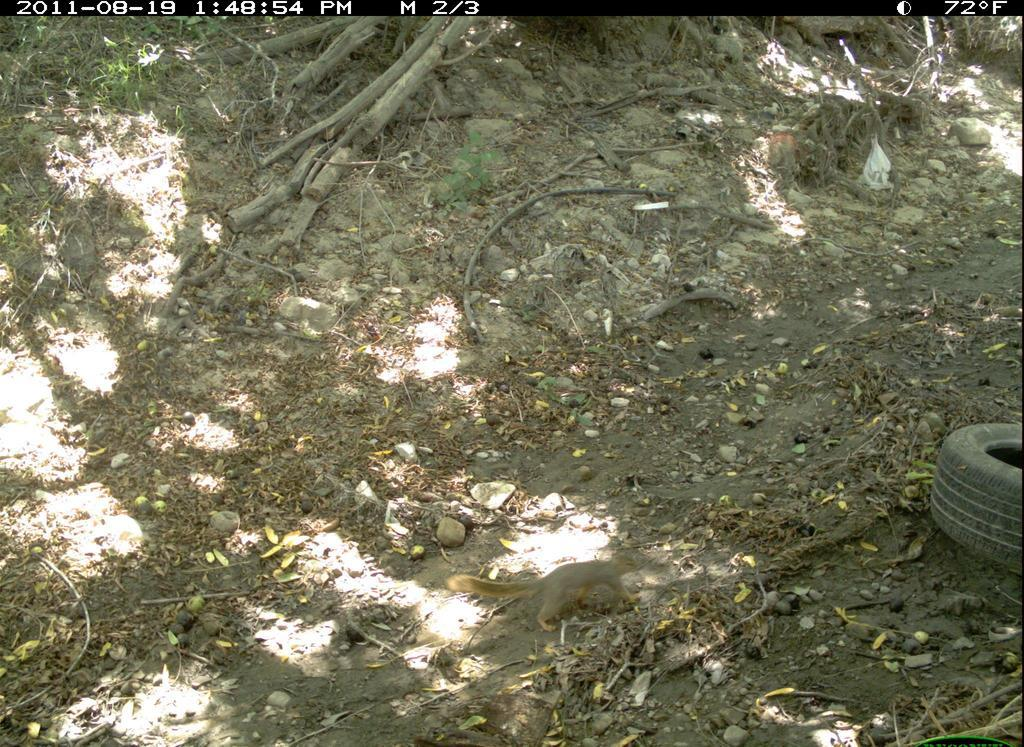squirrel: (442, 546, 655, 647)
